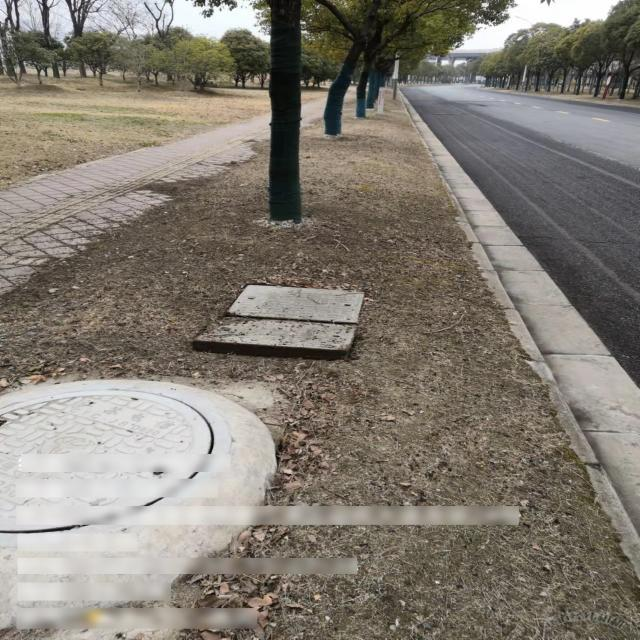Faulty: (192, 283, 366, 357)
Good: (0, 388, 224, 538)
